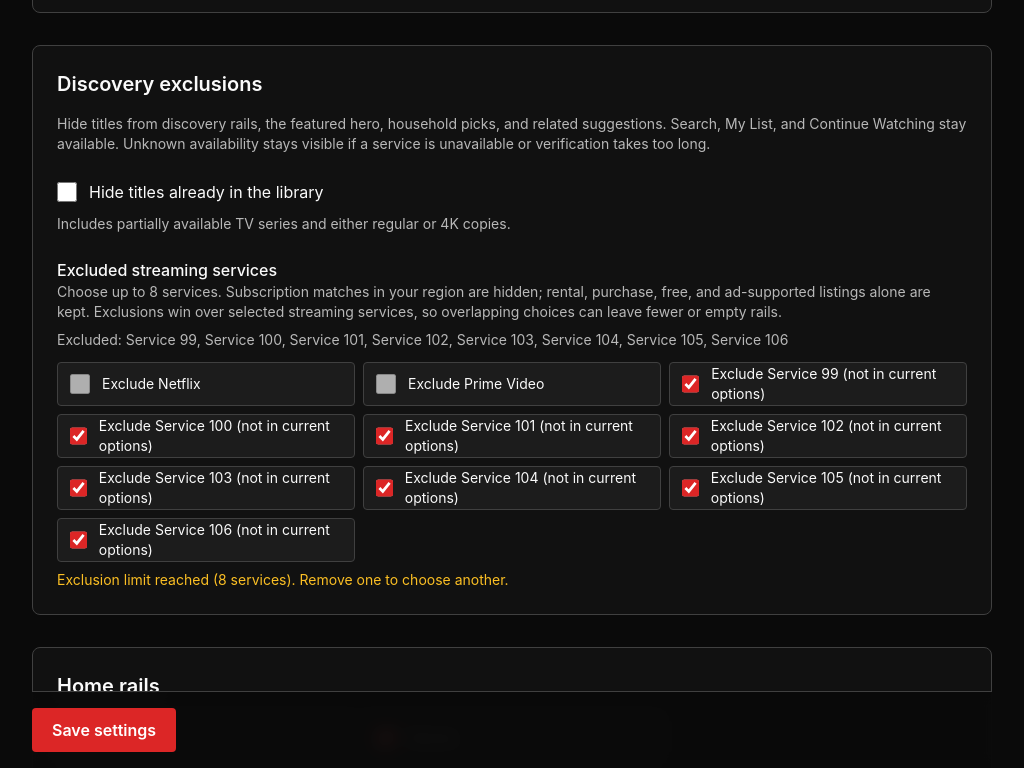
Test: missing excluded services stay removable at the eight-service limit
(page scrolled)
Expected: the text "Exclusion limit reached" is shown, x1=57 y1=571 x2=218 y2=588
Expected: the checkbox labelled "Exclude Netflix" is disabled, x1=70 y1=374 x2=90 y2=394
Click the checkbox labelled "Exclude Service 99 (not in current options)".
click(691, 384)  # box x1=682 y1=374 x2=699 y2=394
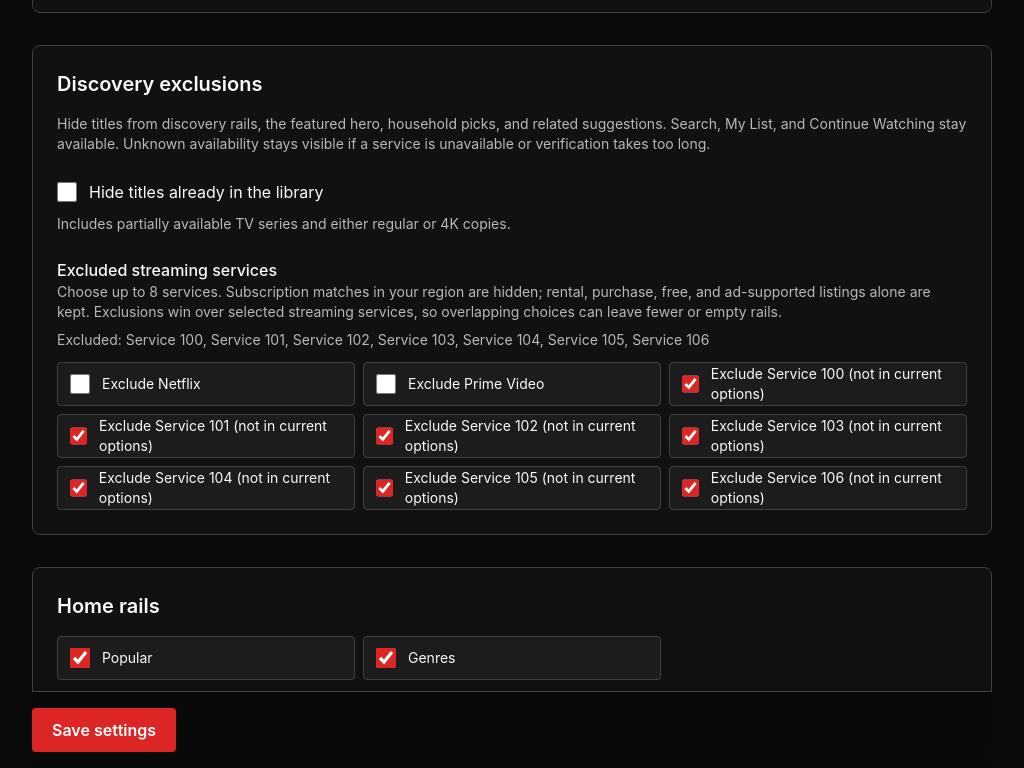
Expected: the text "Exclusion limit reached" is gone
Expected: the checkbox labelled "Exclude Netflix" is enabled
Click the checkbox labelled "Exclude Netflix".
click(80, 384)  # box x1=70 y1=374 x2=90 y2=394
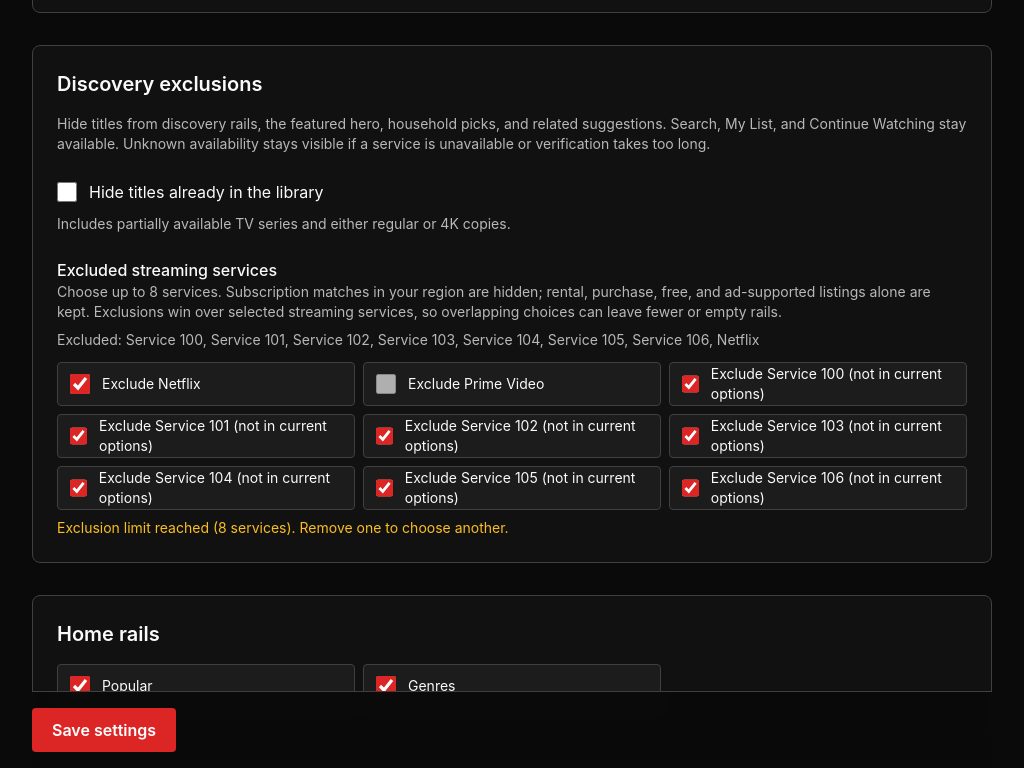
Click the button "Save settings".
click(104, 730)  # box x1=32 y1=708 x2=176 y2=752
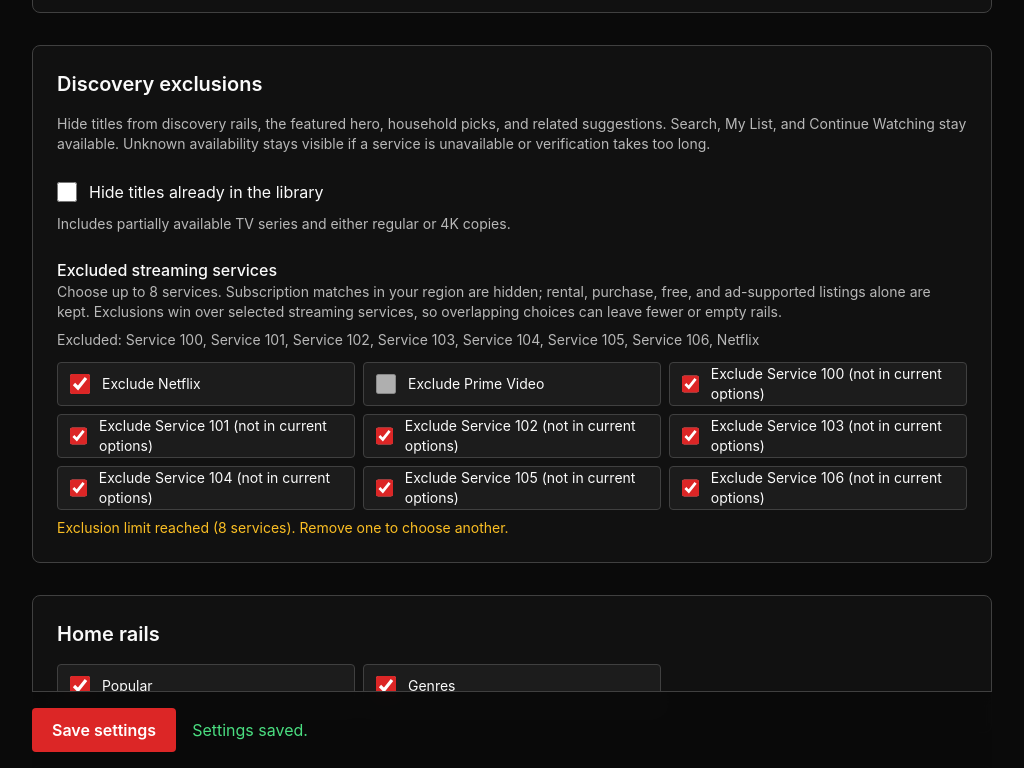
Expected: the text "Settings saved." is shown, x1=192 y1=718 x2=308 y2=742
